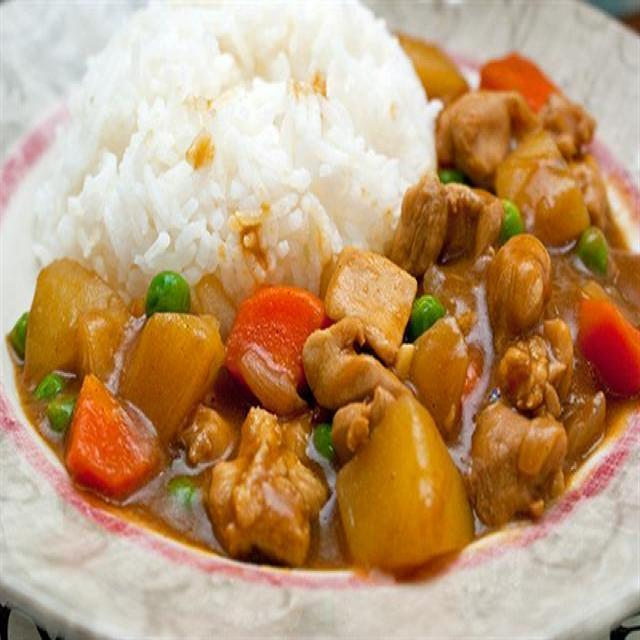cac loai rau cu: (340, 404, 465, 571), (34, 259, 120, 386), (131, 304, 206, 432), (68, 385, 152, 495), (577, 273, 640, 398), (406, 292, 465, 415), (481, 49, 563, 109), (399, 36, 464, 97), (31, 379, 75, 437), (144, 270, 190, 313), (585, 228, 612, 271), (317, 420, 343, 464), (493, 194, 517, 240), (173, 473, 200, 510)
com: (40, 0, 438, 297)
thit bo: (213, 405, 323, 565), (493, 237, 566, 415), (478, 400, 561, 534), (311, 320, 398, 425), (540, 96, 607, 216), (402, 177, 488, 266), (330, 254, 407, 352), (439, 89, 510, 177)
